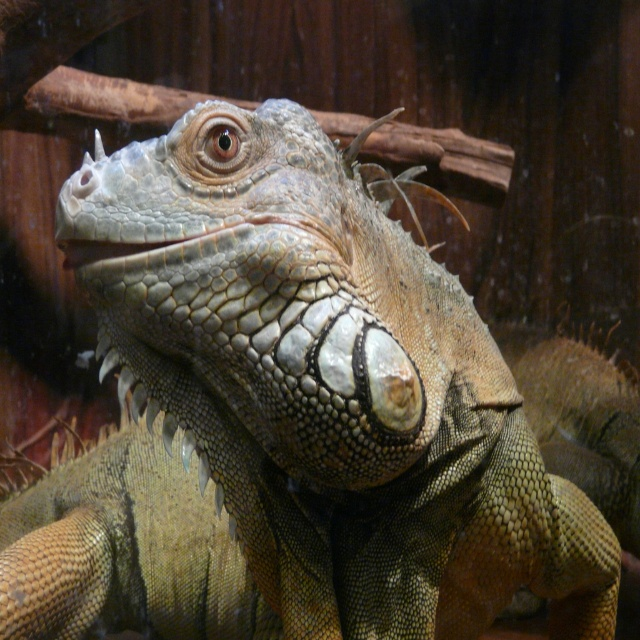Lizard: (54, 93, 636, 639)
